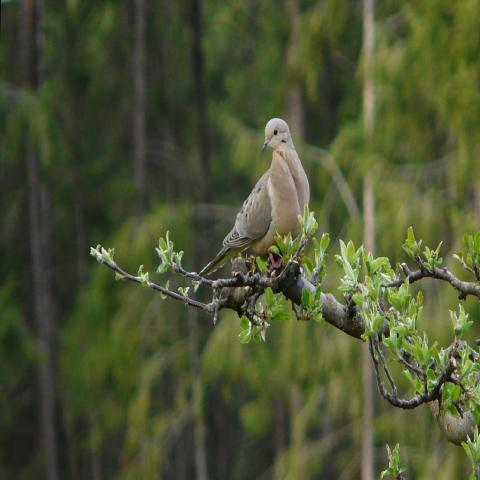bird: (196, 114, 311, 282)
